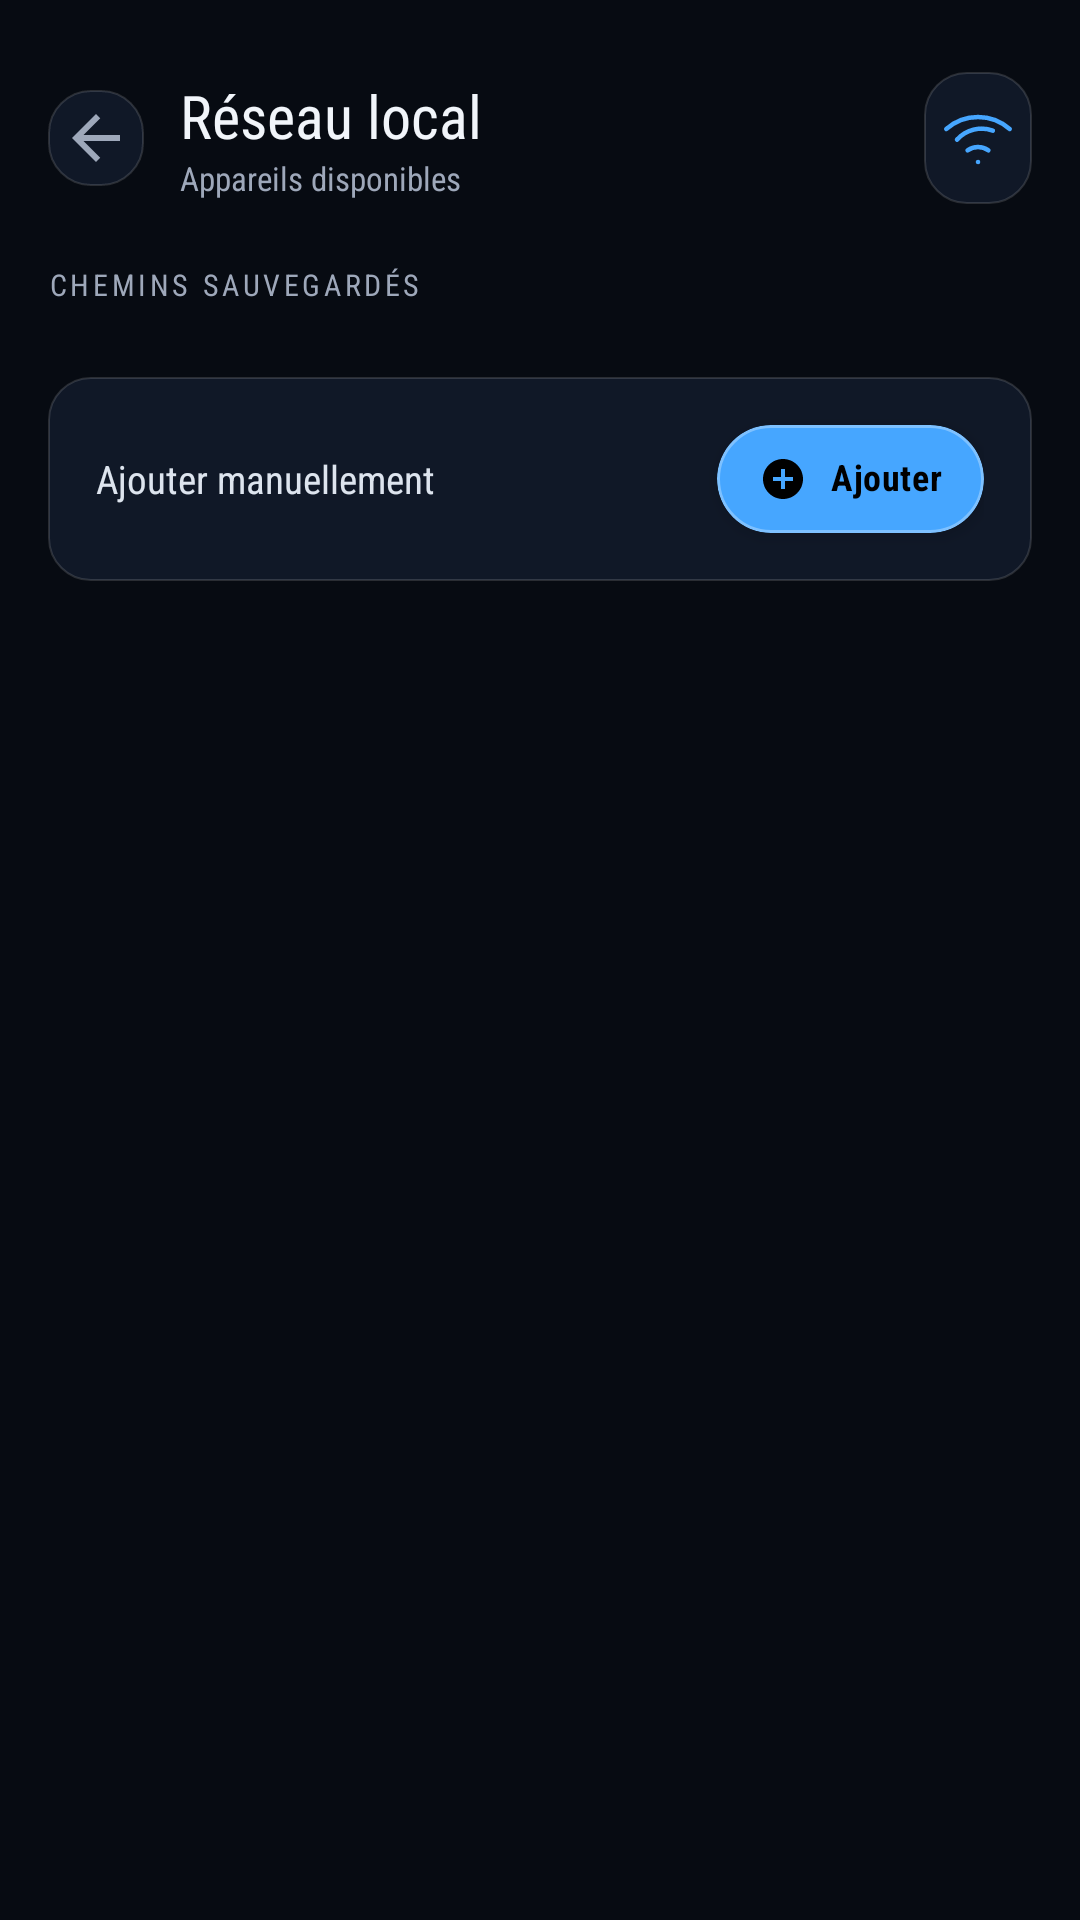

Icons on this 1080px×1920px Android screen, each with its box as bbox(x1, y1, x2, y2):
Retour: bbox(48, 90, 144, 186)
